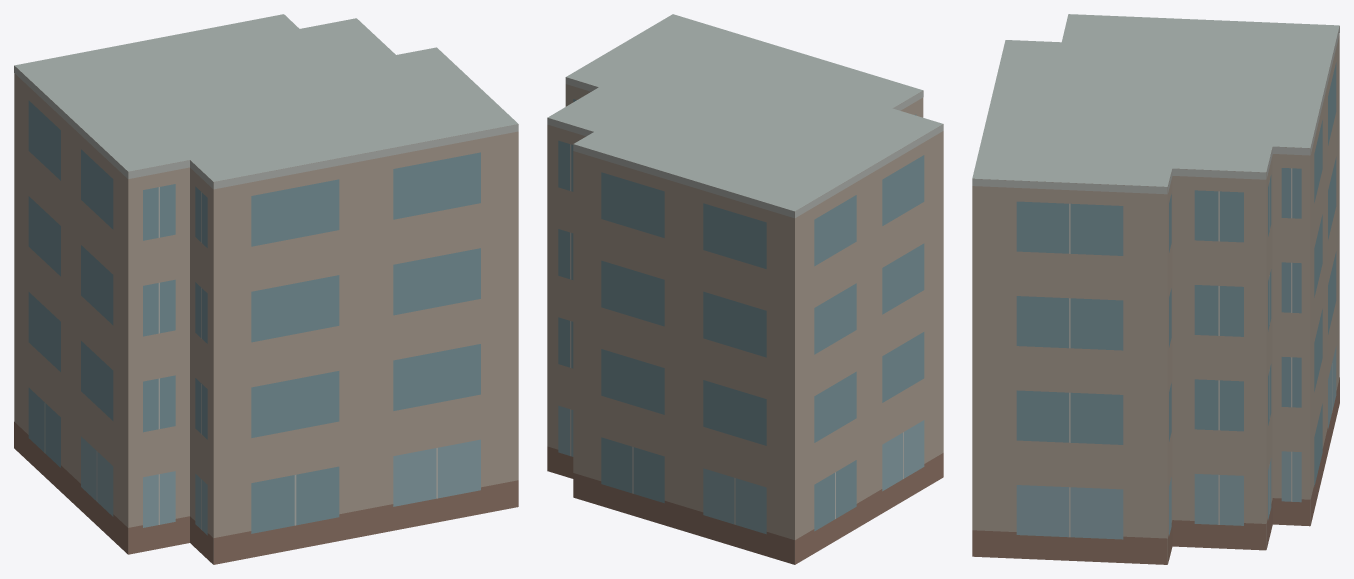
The model's file is survey-upis-32991805.glb.
3 views of the same model, side by side, from view 1: azimuth 30°, elevation 25°; view 2: azimuth 150°, elevation 25°; view 3: azimuth 270°, elevation 25° (orthographic). The views are drawn at different scales.
Visible parts, largest first — view 1: survey-upis-32991805.tmp; view 2: survey-upis-32991805.tmp; view 3: survey-upis-32991805.tmp.
Boxes of the visible parts, bbox=[...] form: survey-upis-32991805.tmp: bbox=[14, 14, 518, 564]; survey-upis-32991805.tmp: bbox=[547, 14, 943, 564]; survey-upis-32991805.tmp: bbox=[972, 14, 1339, 564].
Bounding box in the file's own units: 12.27 × 12.5 × 11.03.
